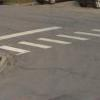Crosswalk: (8, 28, 100, 53)
